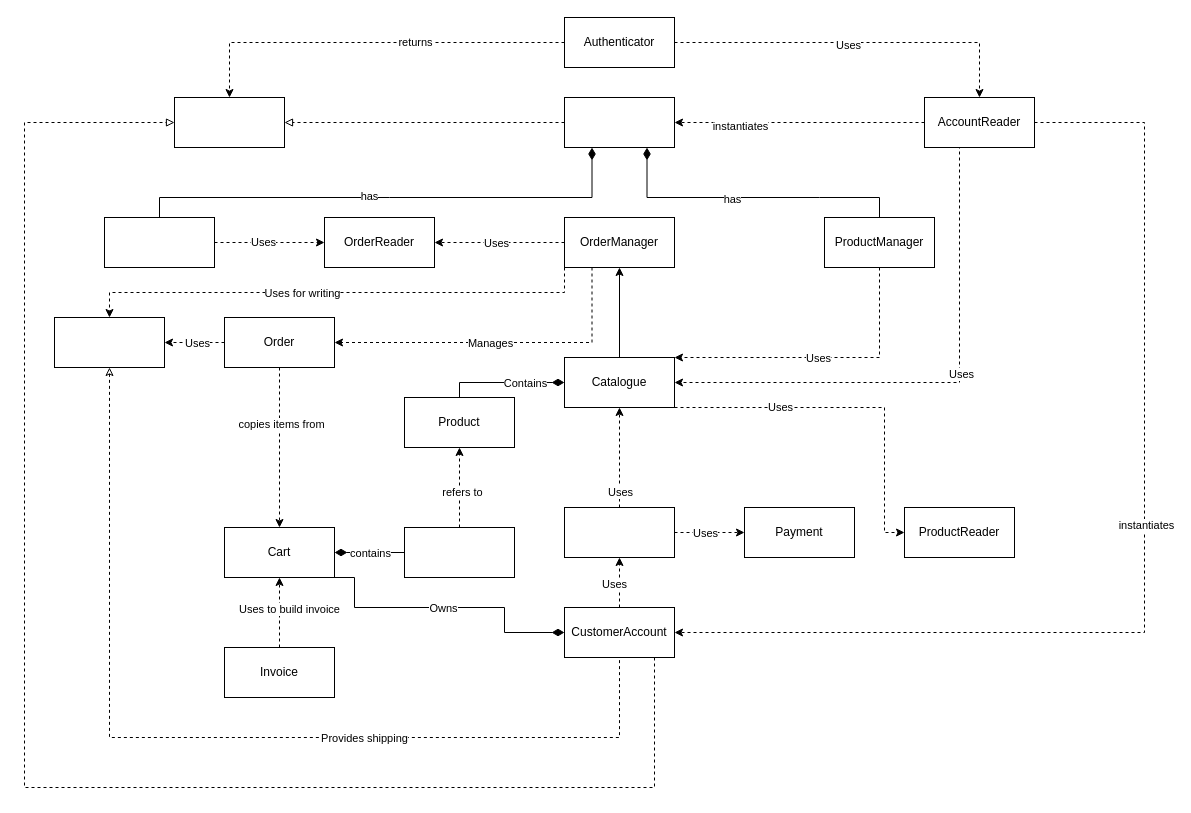
The diagram is 1191 pixels wide and 813 high, and some of its shapes have lost their labels. Each missing label, with the centre of its shape:
AdminAccount: pixel 619 122
CartItem: pixel 459 552
CartManager: pixel 619 532
ShipmentInfo: pixel 109 342
StatisticsManager: pixel 159 242
«interface» IAccount: pixel 229 122
